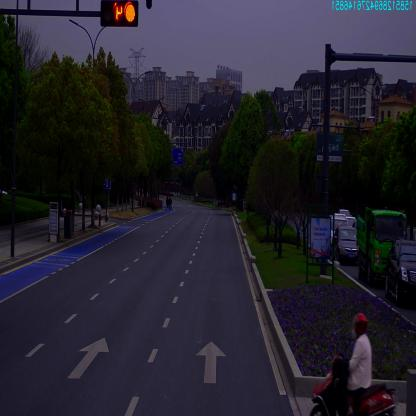traffic-light: (100, 4, 140, 29)
